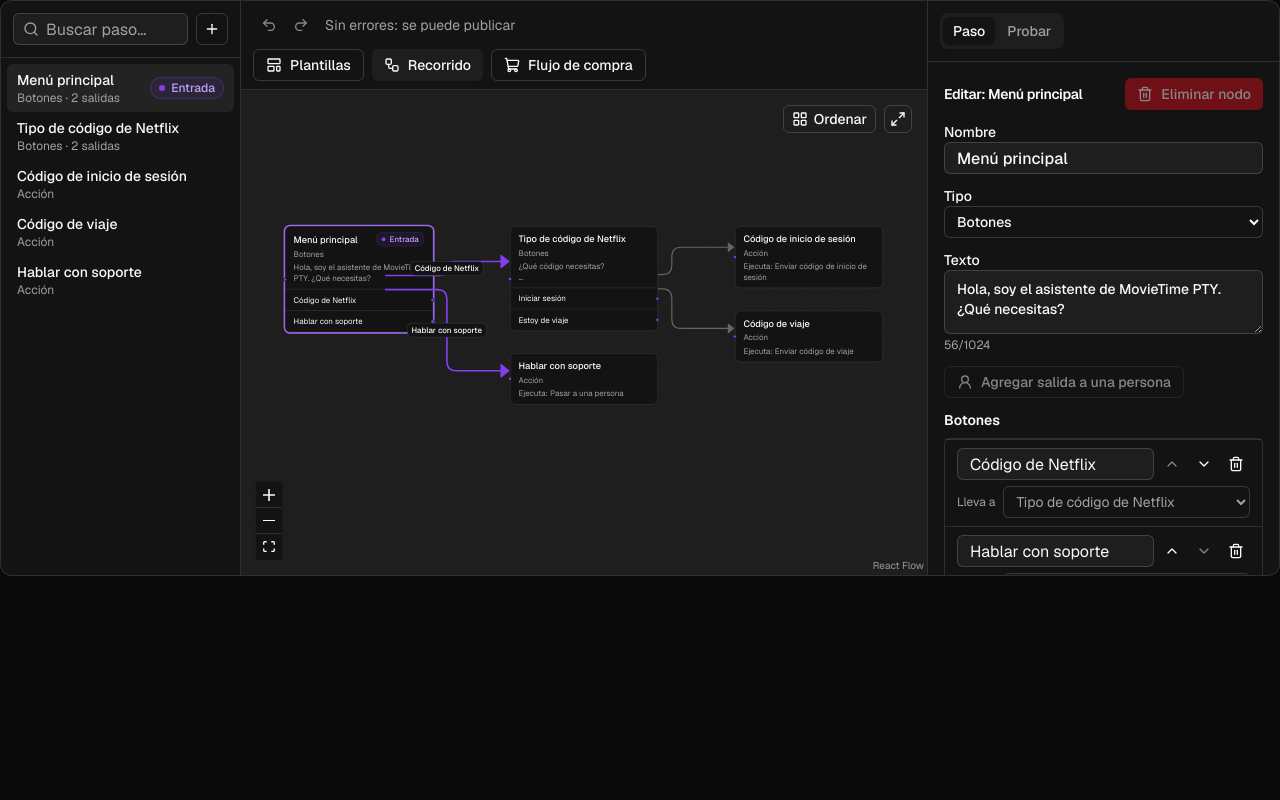
Test: plantillas de flujo › base + compras siempre se puede usar y siembra los textos editados
What coordinates should you click on to do the following:
click the button "Plantillas"
I would click on:
 (308, 65)
Its box is [253,49,364,81].
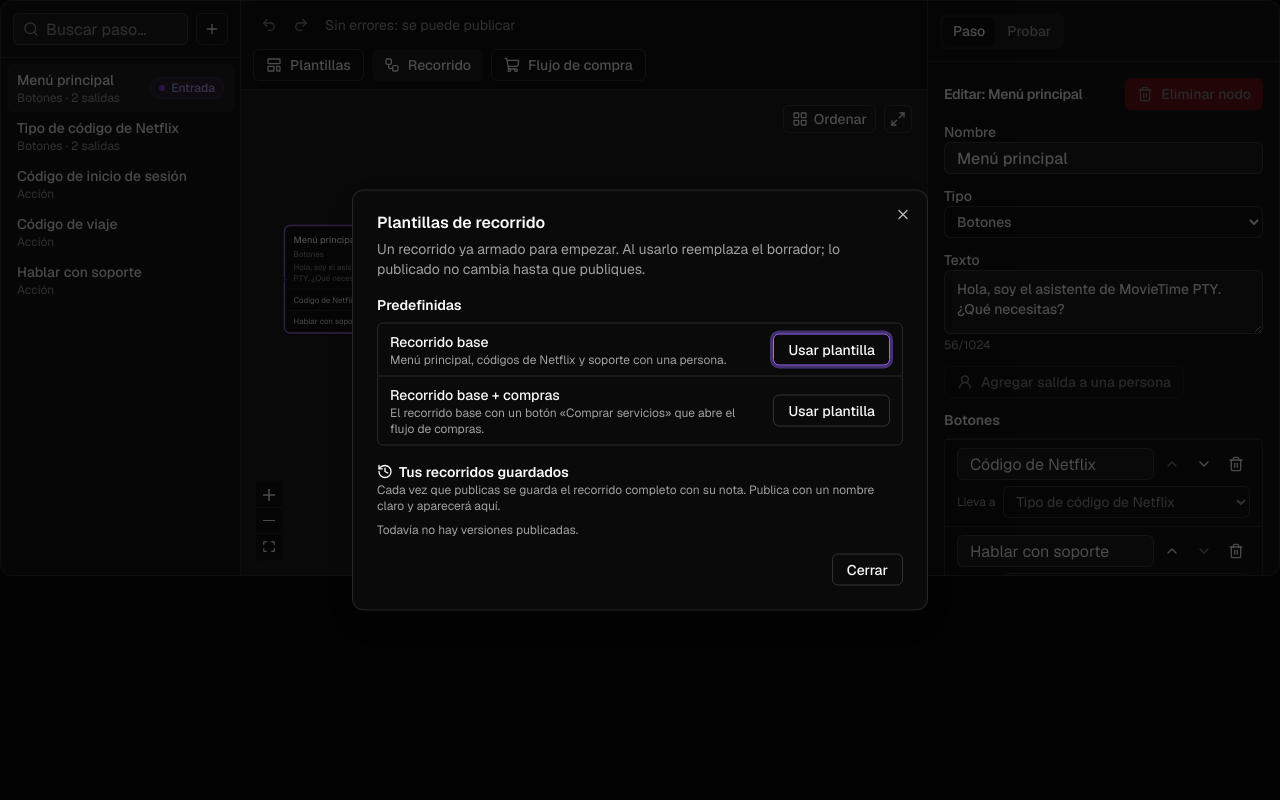
Result: the button with aria-label "Usar plantilla Recorrido base + compras" is enabled
What coordinates should you click on to do the following:
click the button with aria-label "Usar plantilla Recorrido base + compras"
I would click on:
 (832, 410)
Its box is [773,394,890,426].
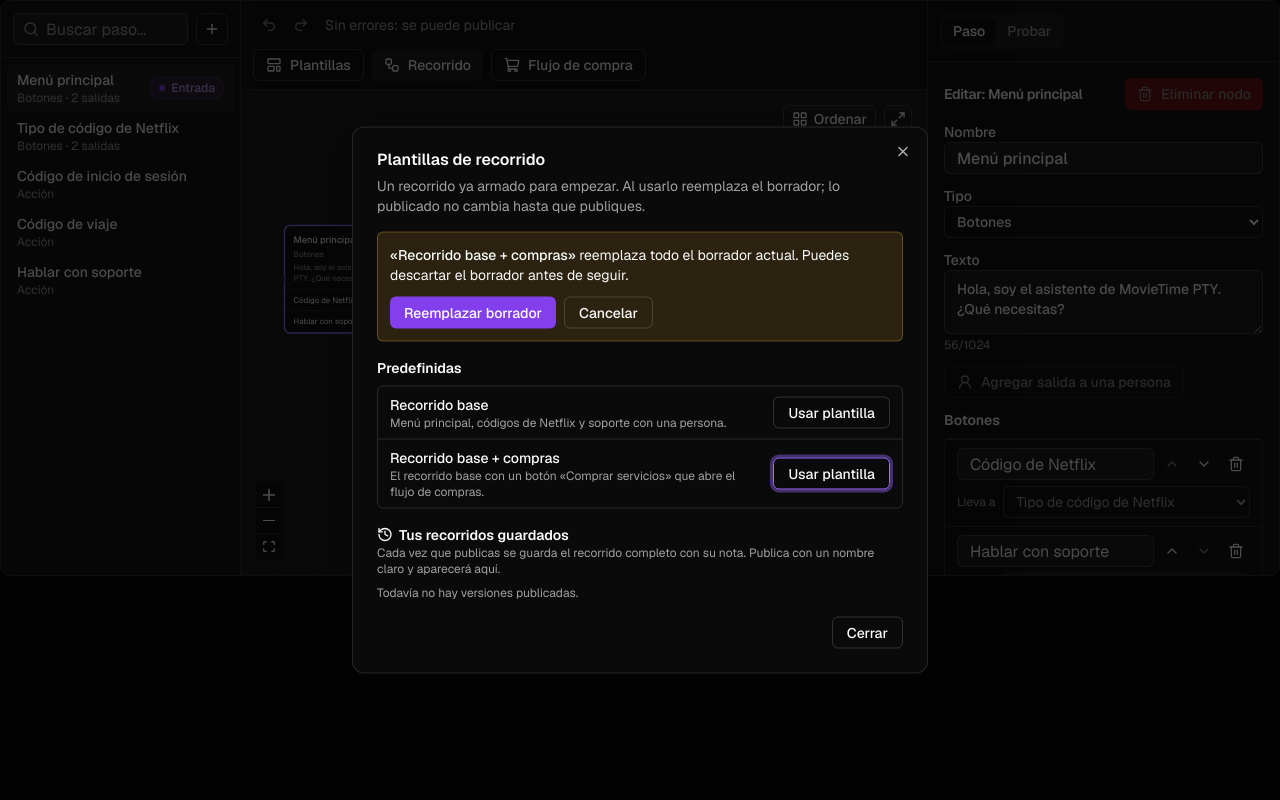
What coordinates should you click on to do the following:
click the button "Reemplazar borrador"
I would click on:
 (473, 312)
Its box is [390,296,556,328].
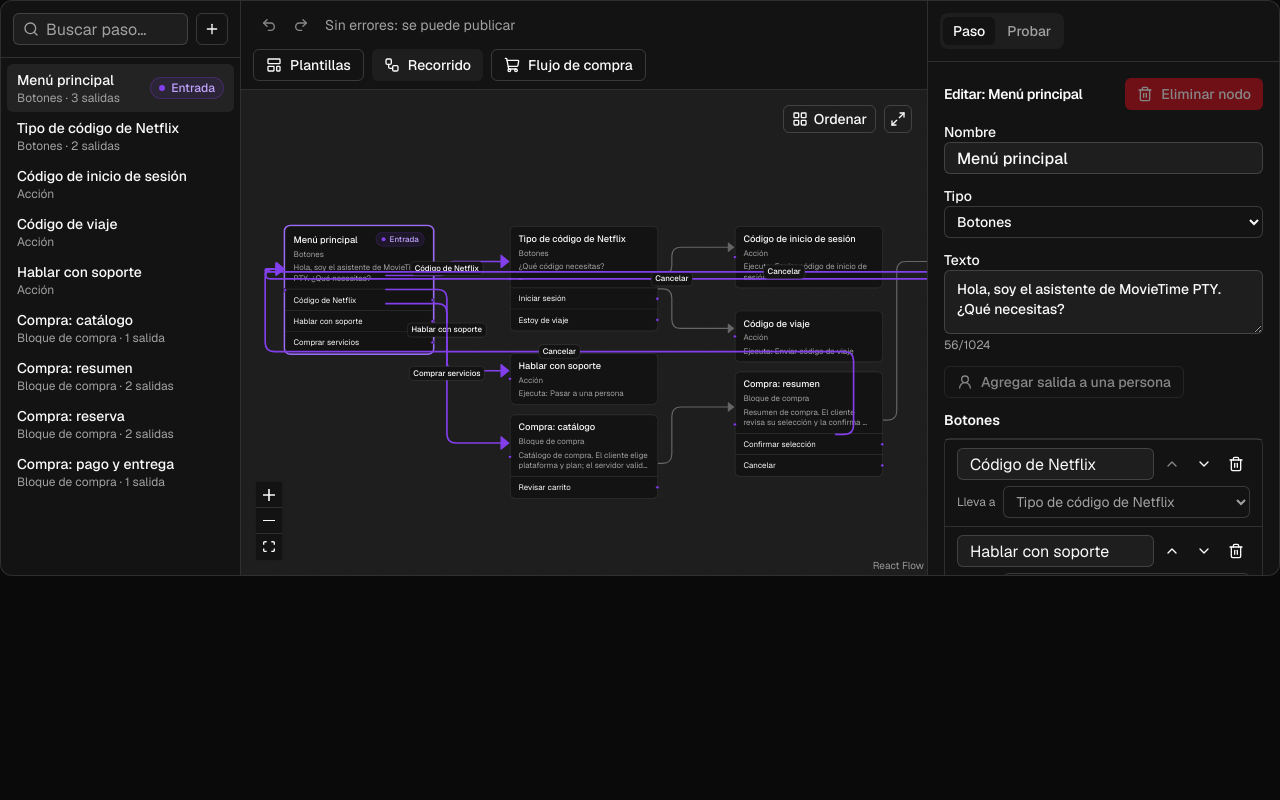
Result: the button "Compra: reserva Bloque de compra · 2 salidas" is shown at [7,400,234,448]
